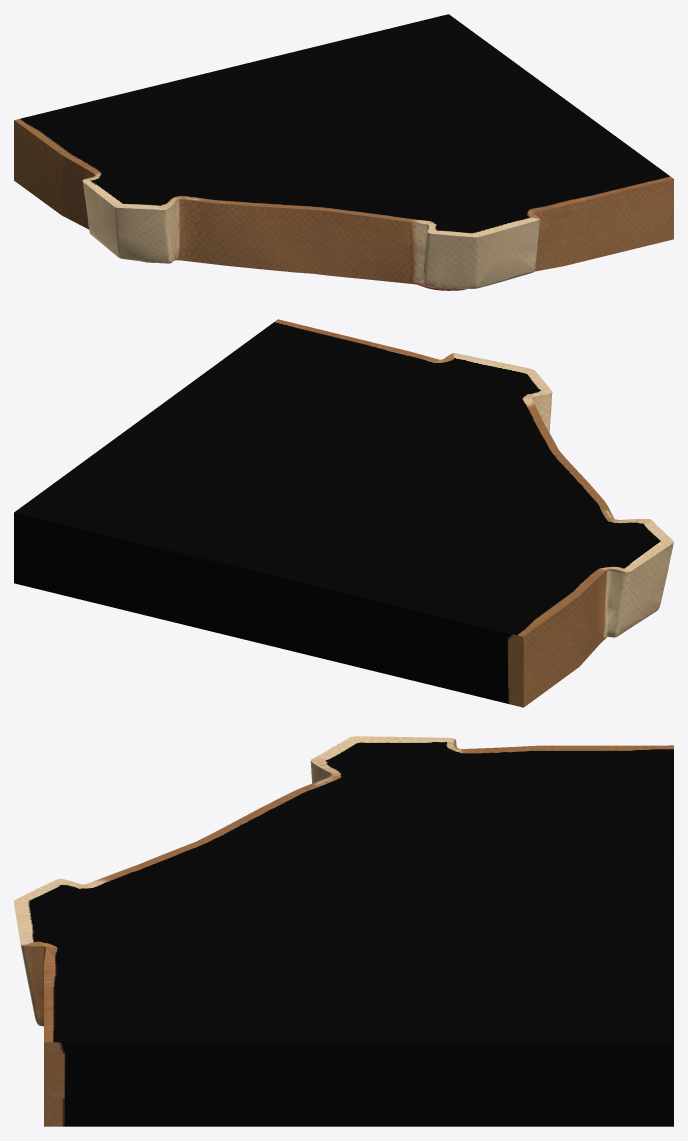
The model's file is 9-roof-front-left.fbx.
The picture shows the model from 3 angles, top to bottom: view 1: azimuth 30°, elevation 25°; view 2: azimuth 150°, elevation 25°; view 3: azimuth 270°, elevation 25°; orthographic projection. The views are drawn at different scales.
Visible parts, largest first — view 1: roof-front-left; view 2: roof-front-left; view 3: roof-front-left.
Part boxes in pixels (left/top/right/bottom): roof-front-left: left=14, top=14, right=673, bottom=290; roof-front-left: left=14, top=319, right=673, bottom=707; roof-front-left: left=14, top=736, right=673, bottom=1126.
Size of the model in its own units: 7406 by 953 by 6748.
Materials: 1 (1 with a texture image).
